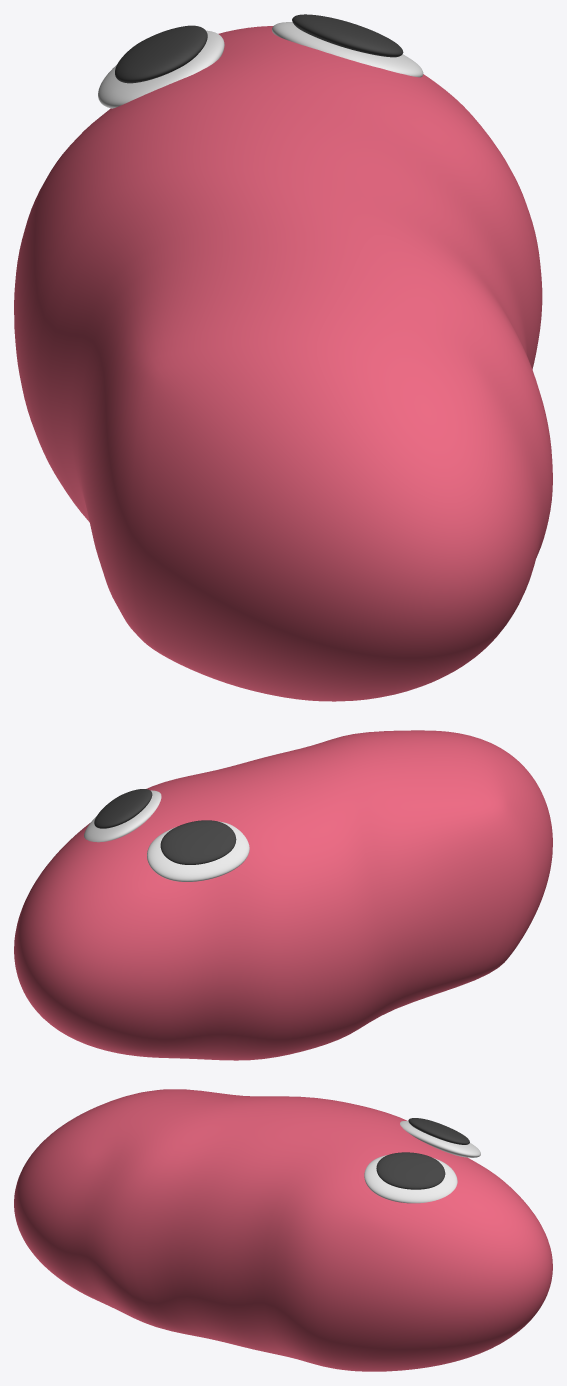
Rendered from Bacteria3.fbx.
3 renders of one model, top to bottom at view 1: azimuth 30°, elevation 25°; view 2: azimuth 150°, elevation 25°; view 3: azimuth 270°, elevation 25°, orthographic. The views are drawn at different scales.
Parts seen in each view (by area): view 1: Cube.014; view 2: Cube.014; view 3: Cube.014.
Boxes of the visible parts, box(x1,y1,x2,y2) form: Cube.014: box(14, 14, 552, 701); Cube.014: box(14, 730, 552, 1060); Cube.014: box(14, 1089, 552, 1371).
Size of the model in its own units: 139 by 101 by 213.
